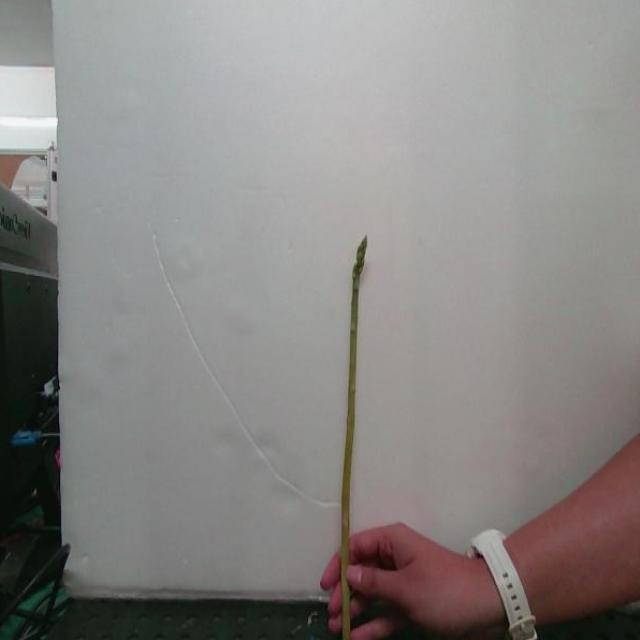aspargus: (328, 238, 368, 640)
